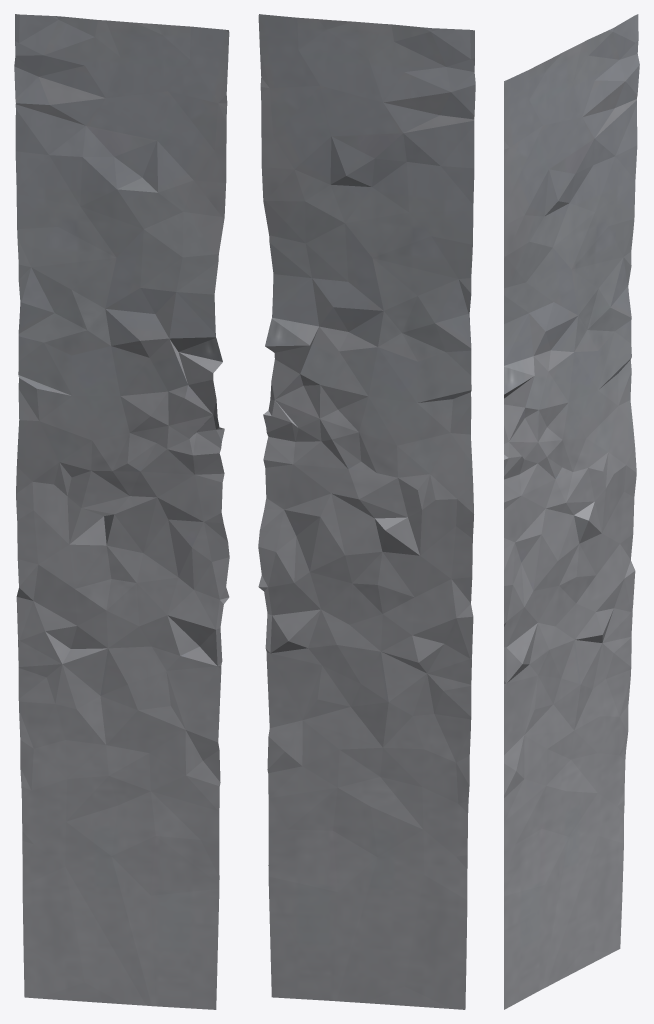
The picture shows the model from 3 angles, left to right: view 1: azimuth 30°, elevation 25°; view 2: azimuth 210°, elevation 25°; view 3: azimuth 270°, elevation 25°; orthographic projection. The views are drawn at different scales.
Size of the model in its own units: 0.2593 by 1.67 by 0.2204.
Materials: 1 (1 with a texture image).
